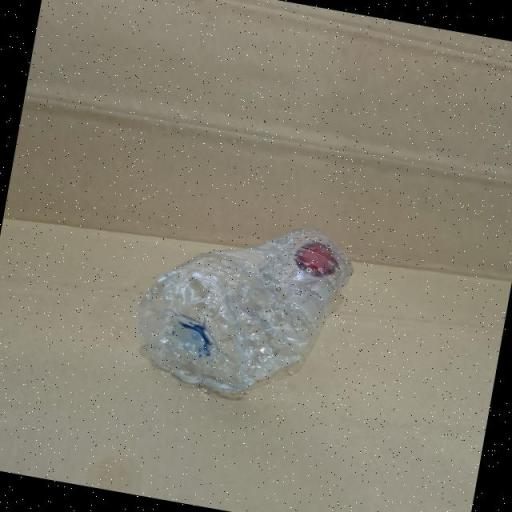plastic: (127, 210, 372, 416)
